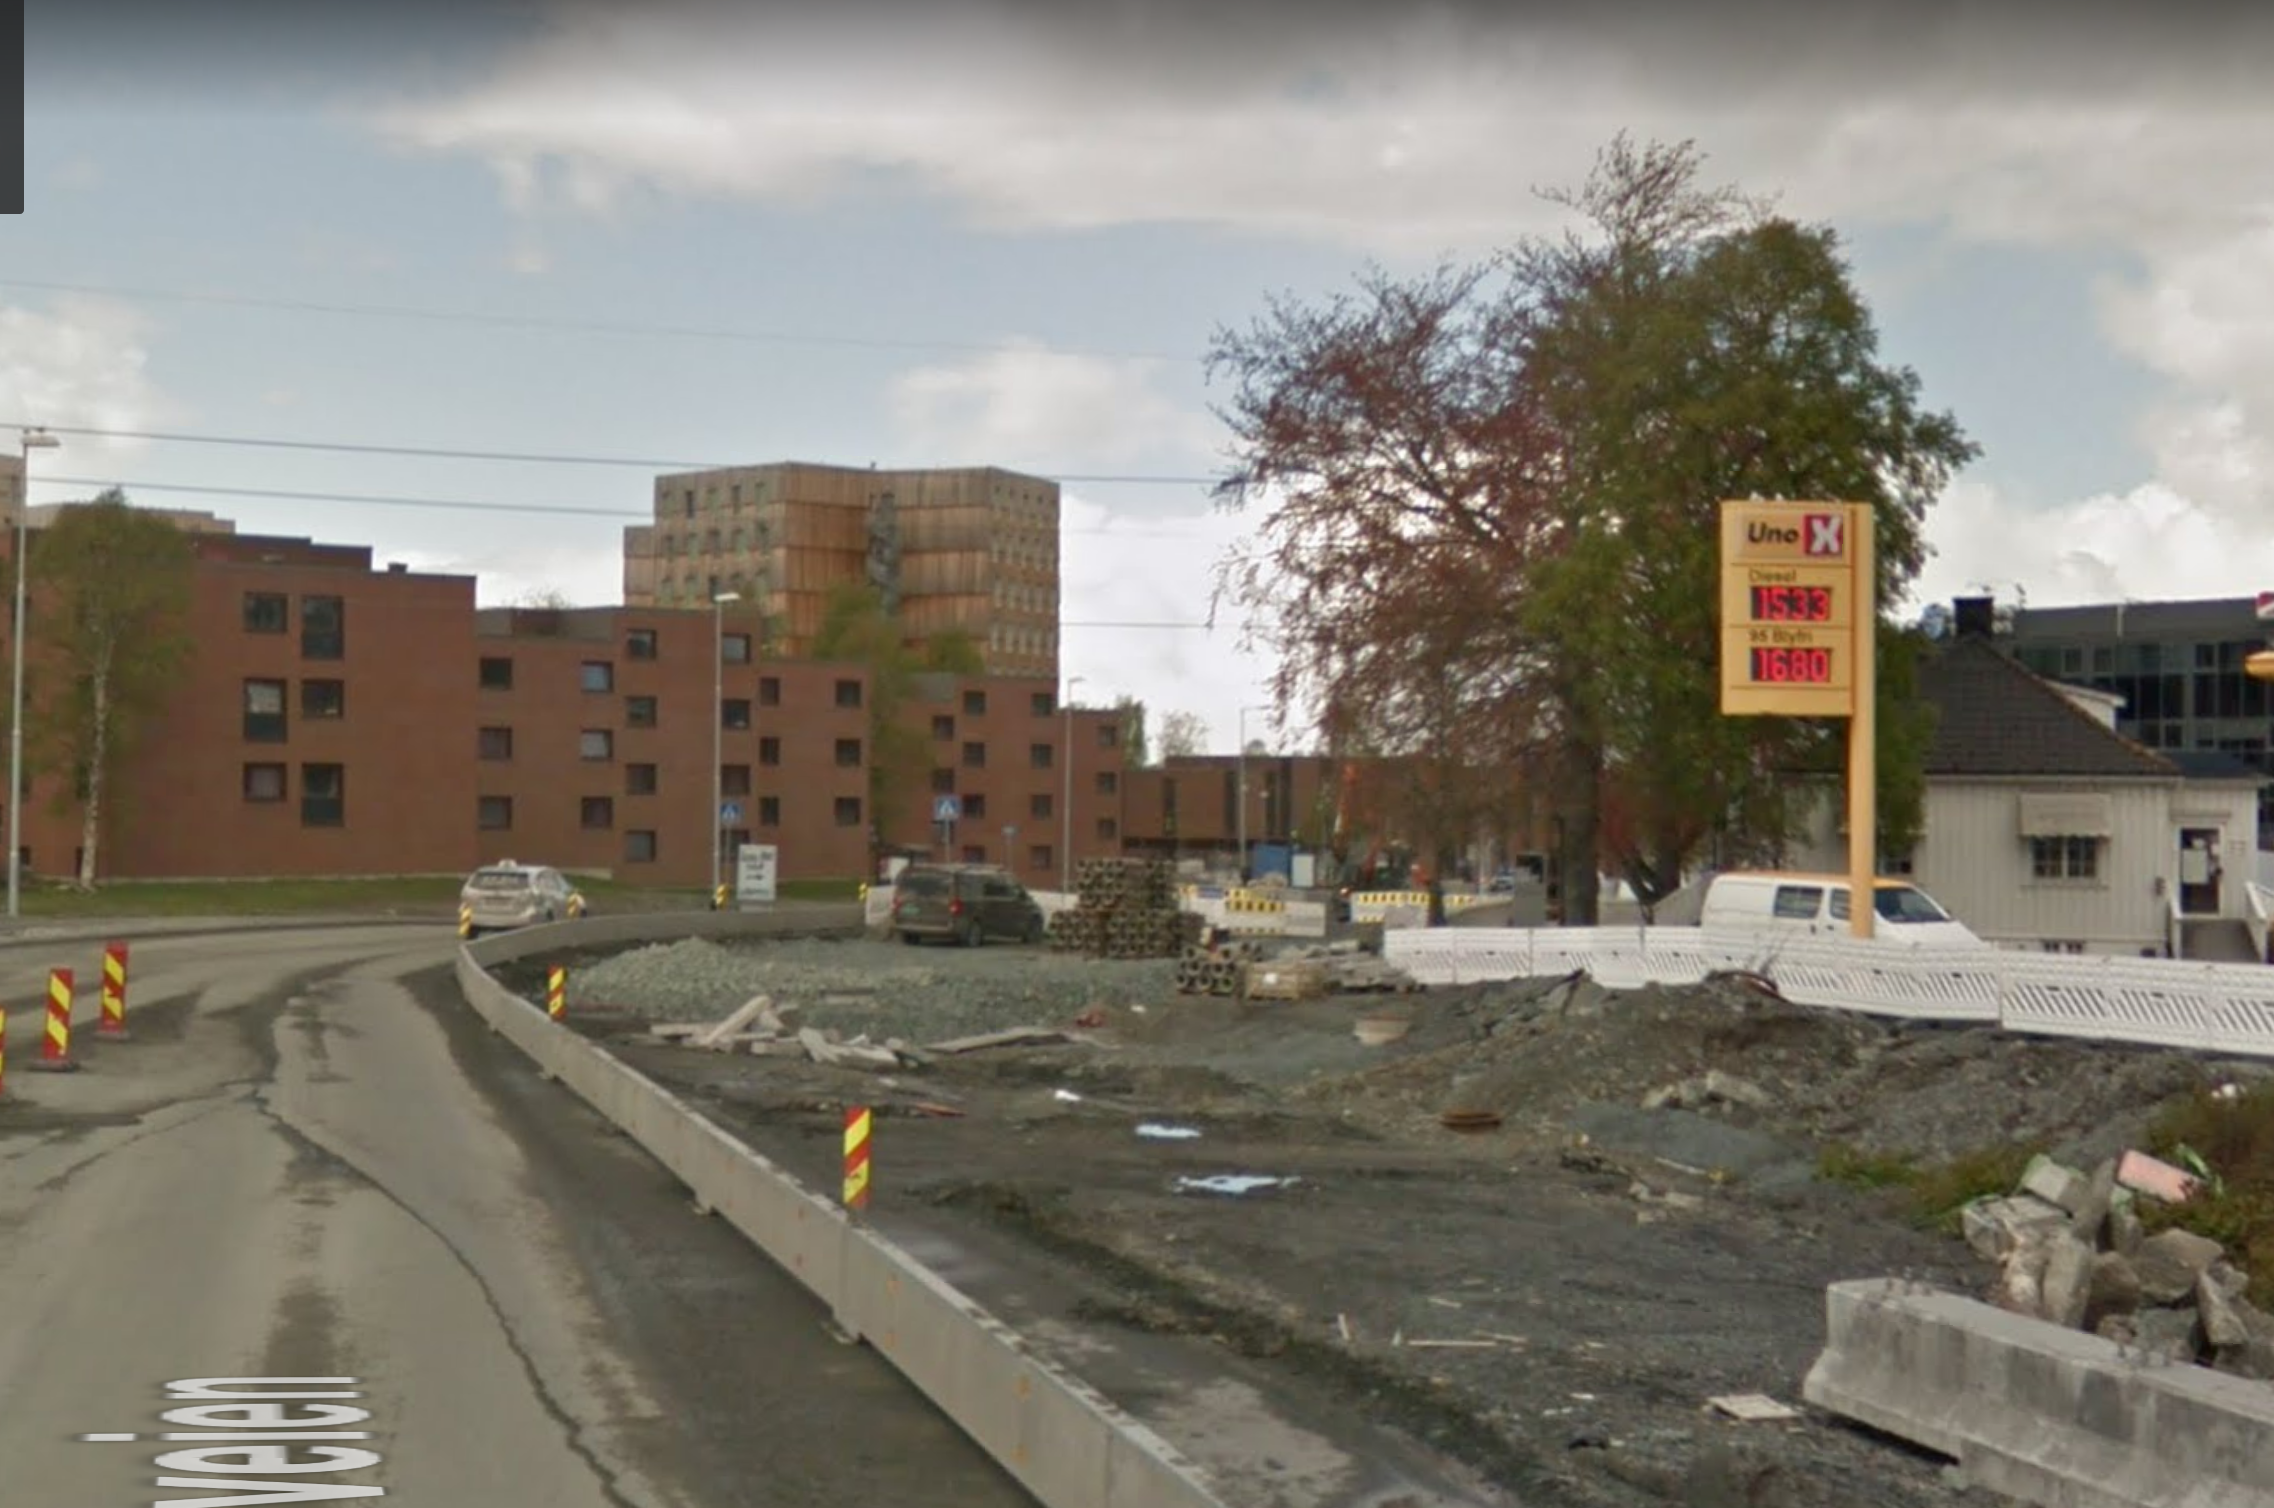fuel: (1720, 498, 1858, 720)
